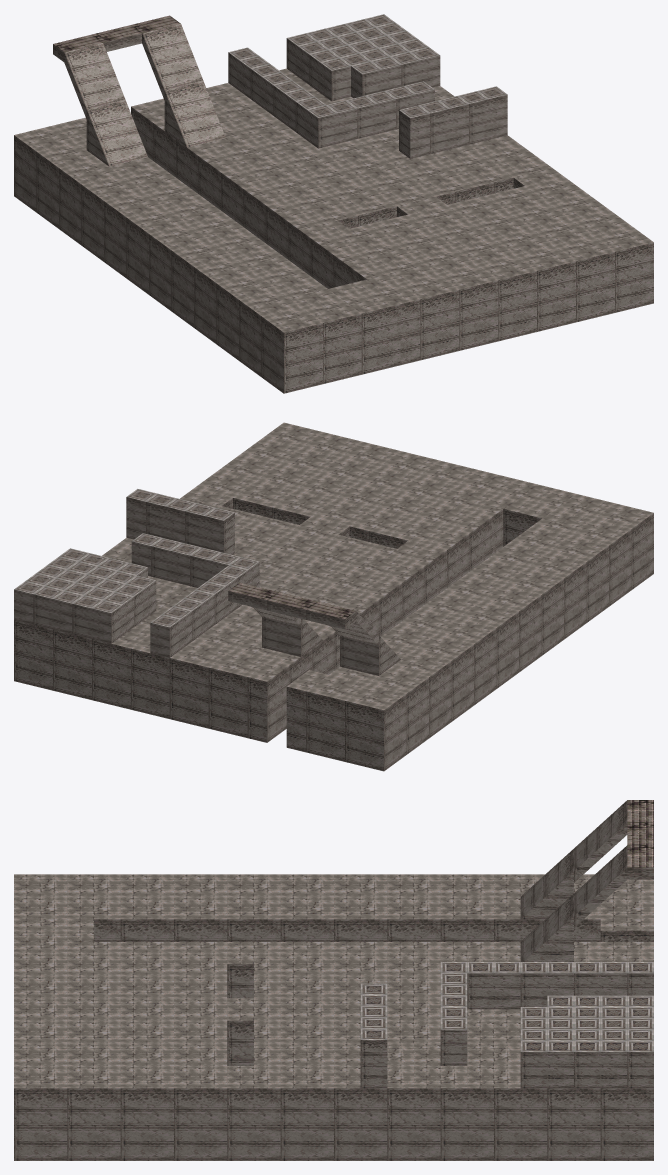
Rendered from MAP428.obj.
3 views of the same model, one above another, from view 1: azimuth 30°, elevation 25°; view 2: azimuth 150°, elevation 25°; view 3: azimuth 270°, elevation 25° (orthographic). The views are drawn at different scales.
Visible parts, largest first — view 1: mesh_0, mesh_1, mesh_3, mesh_2; view 2: mesh_0, mesh_1, mesh_3, mesh_2; view 3: mesh_1, mesh_0, mesh_3, mesh_2.
Boxes of the visible parts, x1,y1,x2,y2 form: mesh_0: (14, 24, 653, 393); mesh_1: (14, 68, 653, 332); mesh_3: (228, 14, 507, 118); mesh_2: (53, 15, 180, 52); mesh_0: (14, 497, 653, 771); mesh_1: (102, 422, 653, 710); mesh_3: (14, 489, 259, 627); mesh_2: (228, 582, 355, 618); mesh_1: (14, 874, 653, 1088); mesh_0: (14, 800, 653, 1160); mesh_3: (360, 962, 653, 1051); mesh_2: (627, 800, 653, 867).
Bounding box in the file's own units: 243 × 89.6 × 307.
4 materials, 4 textured.
